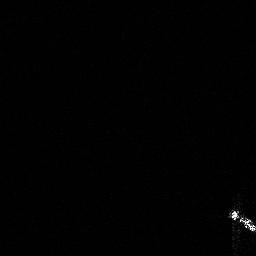ship: (229, 205, 256, 234)
